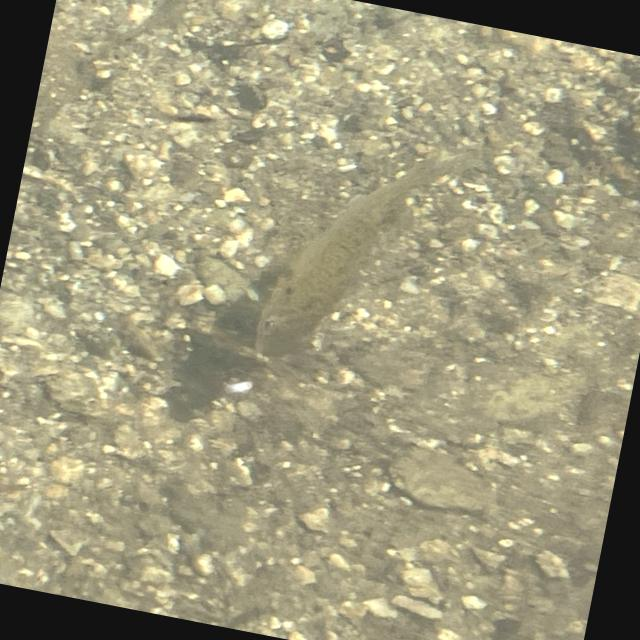Gunes Levregi: (241, 115, 475, 388)
